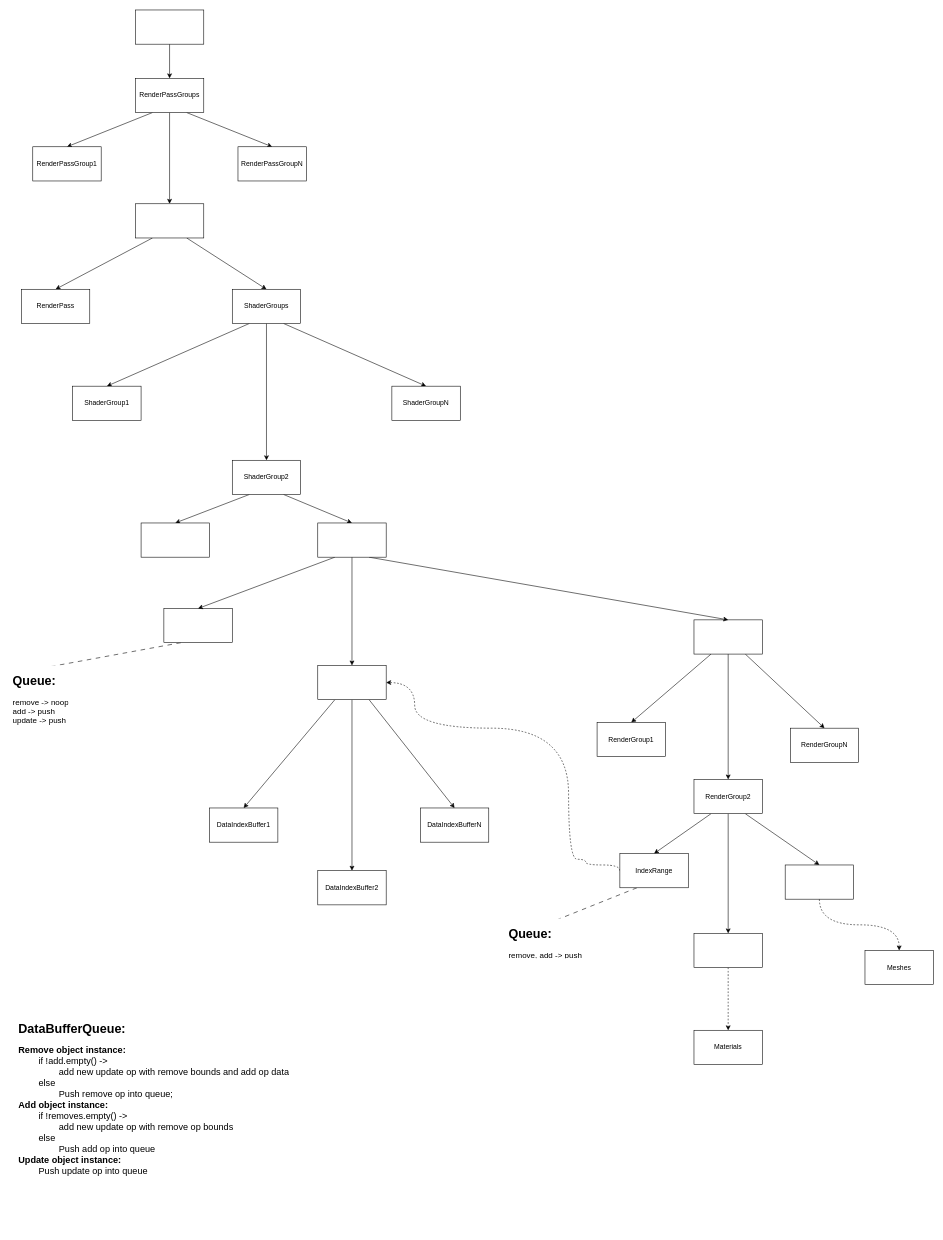
Image size: 943x1240. Some labels were removed from this diagram. Each missing label, with the centre of its shape:
"DataBuffer" goes at [197,625].
"DataIndexStorage" goes at [351,682].
"Material" goes at [727,950].
"Mesh" goes at [819,881].
"Renderer" goes at [169,26].
"RenderGroups" goes at [727,636].
"RenderPassGroup2" goes at [169,220].
"Resources" goes at [351,539].
"Shader" goes at [175,539].
